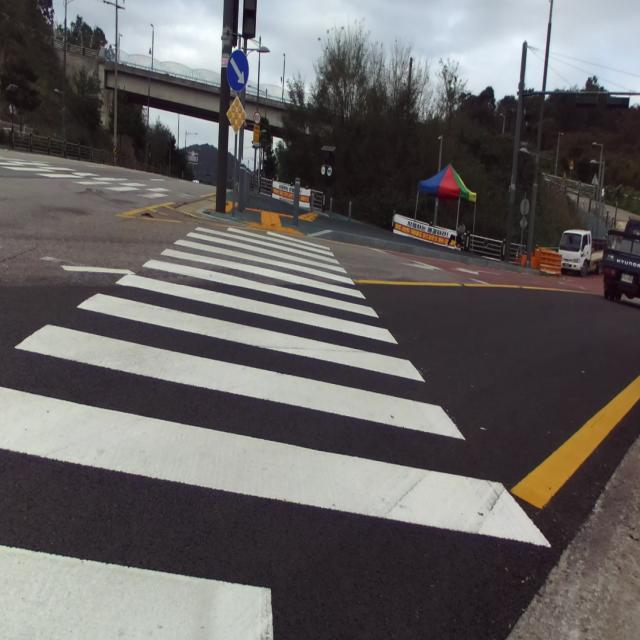횡단보도: (0, 227, 551, 640)
